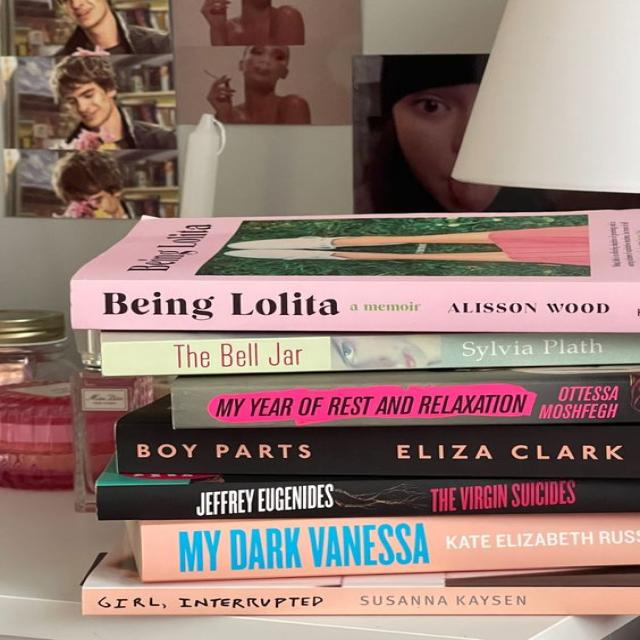book: (117, 396, 639, 478), (128, 513, 639, 580), (70, 278, 640, 330), (171, 369, 639, 429), (87, 331, 639, 376), (98, 477, 639, 519), (86, 589, 639, 612)
